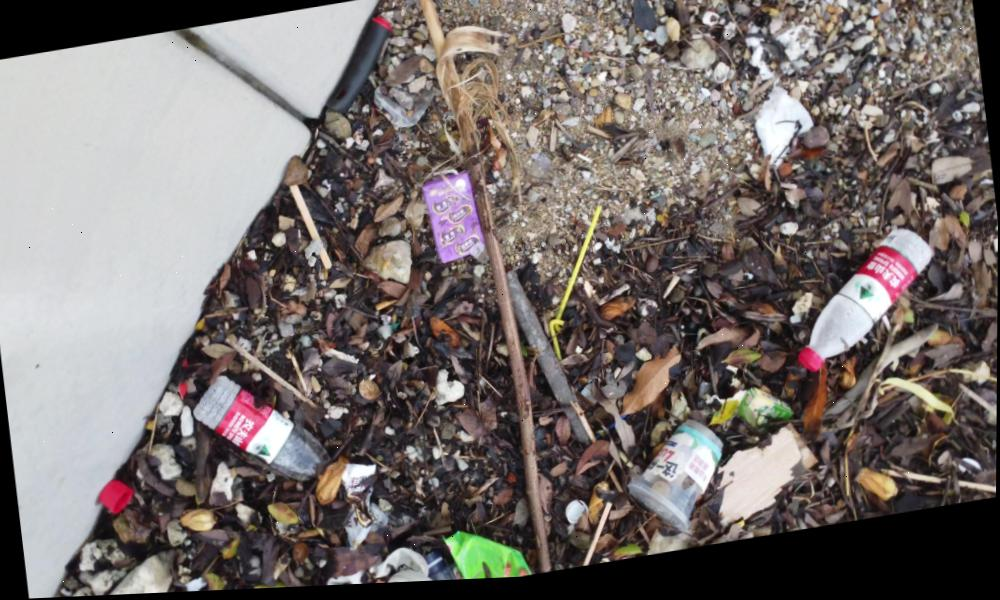carton: (422, 166, 485, 271)
plastic bottle: (795, 236, 946, 379), (192, 364, 337, 512), (624, 423, 720, 539)
